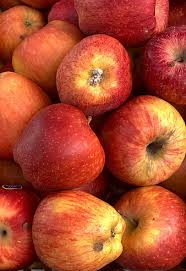apple: (31, 192, 126, 269)
